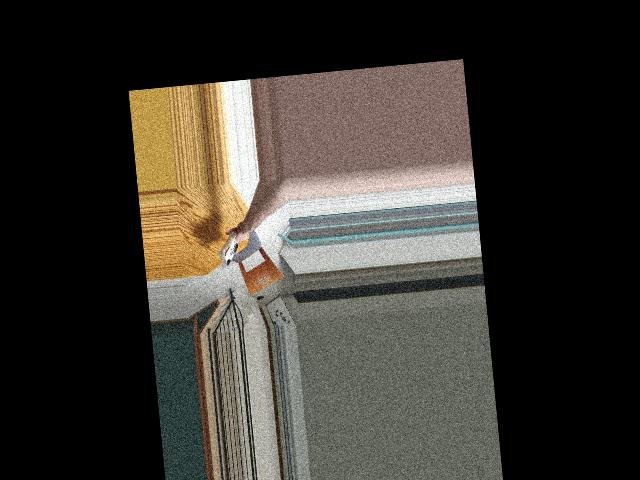cheese: (216, 230, 243, 266)
